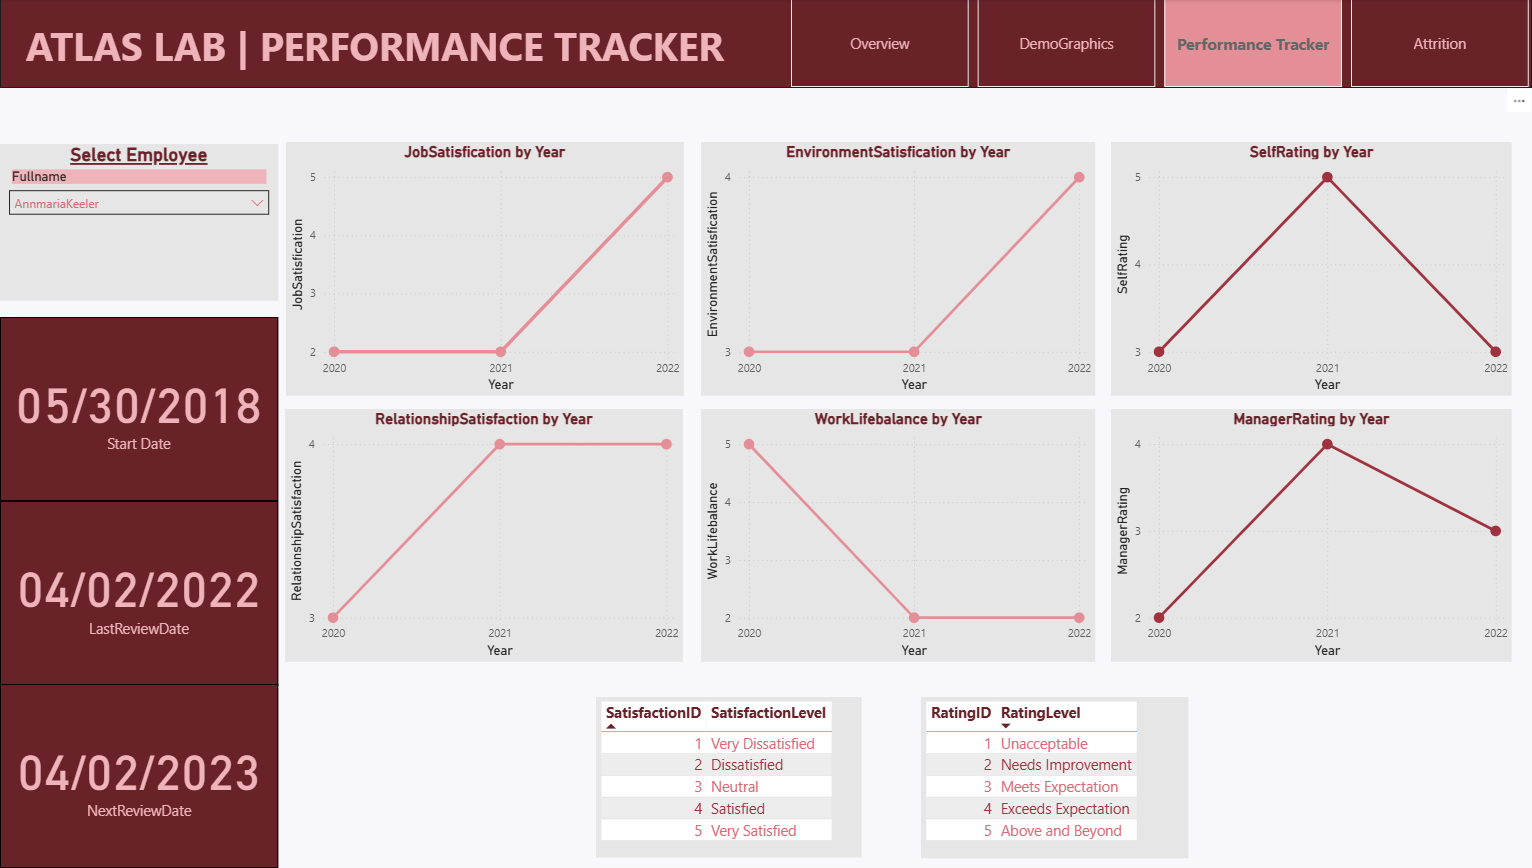

What the dashboard file says about the page in this screenshot:
{"tool":"powerbi","page":{"name":"Performance Tracker","canvas":[1690,960],"ordinal":2},"visuals":[{"type":"slicer","title":"Select Employee","fields":{"Values":["Dim_Employee.Fullname"]},"box":[0,159.8,306.5,172.9],"z":0},{"type":"card","fields":{"Values":["Min(Dim_Employee.HireDate)"]},"box":[0,350.6,306.5,202.8],"z":1000},{"type":"card","fields":{"Values":["_Measures.LastReviewDate"]},"box":[0,553.4,306.5,203.9],"z":2000},{"type":"card","fields":{"Values":["_Measures.NextReviewDate"]},"box":[0,756.4,307.1,203],"z":3000},{"type":"lineChart","fields":{"Y":["_Measures.JobSatisfication"],"Category":["DimDate.Year"]},"box":[316.1,157.4,438.9,280.3],"z":4000},{"type":"lineChart","fields":{"Y":["_Measures.EnvironmentSatisfication"],"Category":["DimDate.Year"]},"box":[774,157.4,435.3,280.3],"z":5000},{"type":"lineChart","fields":{"Category":["DimDate.Year"],"Y":["_Measures.RelationshipSatisfaction"]},"box":[314.9,452,438.9,279.1],"z":6000},{"type":"lineChart","fields":{"Y":["_Measures.WorkLifebalance"],"Category":["DimDate.Year"]},"box":[774,452,435.3,279.1],"z":7000},{"type":"lineChart","fields":{"Y":["_Measures.SelfRating"],"Category":["DimDate.Year"]},"box":[1226.1,157.4,442.5,280.3],"z":8000},{"type":"lineChart","fields":{"Category":["DimDate.Year"],"Y":["_Measures.ManagerRating"]},"box":[1226.1,452,442.5,279.1],"z":9000},{"type":"tableEx","fields":{"Values":["Dim_SatisfiedLevel.SatisfactionID","Dim_SatisfiedLevel.SatisfactionLevel"]},"box":[657.2,770.5,293.4,176.5],"z":10000},{"type":"tableEx","fields":{"Values":["Dim_RatingLevel.RatingID","Dim_RatingLevel.RatingLevel"]},"box":[1016.1,770.5,294.6,177.7],"z":11000},{"type":"textbox","box":[0,0,1690,97.8],"z":12000},{"type":"pageNavigator","box":[872.7,0,817.3,97.4],"z":12001}]}

Visuals, with their boxes in screenshot pixels (x1, y1, x2, y2), scaled from the page's 1690x960 canvas onto the 1532x868 screenshot:
"Select Employee" slicer: 0:144:278:301
card - Min(Dim_Employee.HireDate): 0:317:278:500
card - _Measures.LastReviewDate: 0:500:278:685
card - _Measures.NextReviewDate: 0:684:278:867
lineChart - _Measures.JobSatisfication x DimDate.Year: 287:142:684:396
lineChart - _Measures.EnvironmentSatisfication x DimDate.Year: 702:142:1096:396
lineChart - DimDate.Year x _Measures.RelationshipSatisfaction: 285:409:683:661
lineChart - _Measures.WorkLifebalance x DimDate.Year: 702:409:1096:661
lineChart - _Measures.SelfRating x DimDate.Year: 1111:142:1513:396
lineChart - DimDate.Year x _Measures.ManagerRating: 1111:409:1513:661
tableEx - Dim_SatisfiedLevel.SatisfactionID x Dim_SatisfiedLevel.SatisfactionLevel: 596:697:862:856
tableEx - Dim_RatingLevel.RatingID x Dim_RatingLevel.RatingLevel: 921:697:1188:857
textbox: 0:0:1531:88
pageNavigator: 791:0:1531:88
